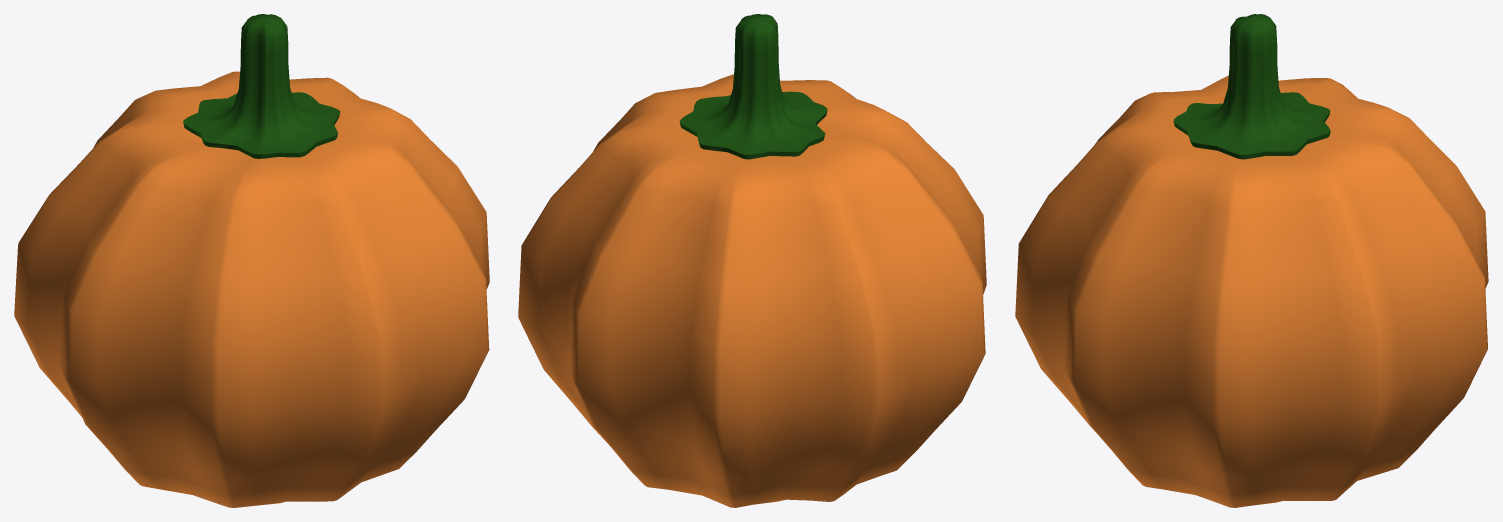
File: pumpkin.fbx
3 views of the same model, side by side, from view 1: azimuth 30°, elevation 25°; view 2: azimuth 150°, elevation 25°; view 3: azimuth 270°, elevation 25° (orthographic).
Parts seen in each view (by area): view 1: pumpkin; view 2: pumpkin; view 3: pumpkin.
Boxes of the visible parts, box(x1,y1,x2,y2) form: pumpkin: box(14, 14, 489, 507); pumpkin: box(518, 14, 986, 507); pumpkin: box(1015, 14, 1488, 507).
Size of the model in its own units: 0.2661 by 0.2707 by 0.2605.
